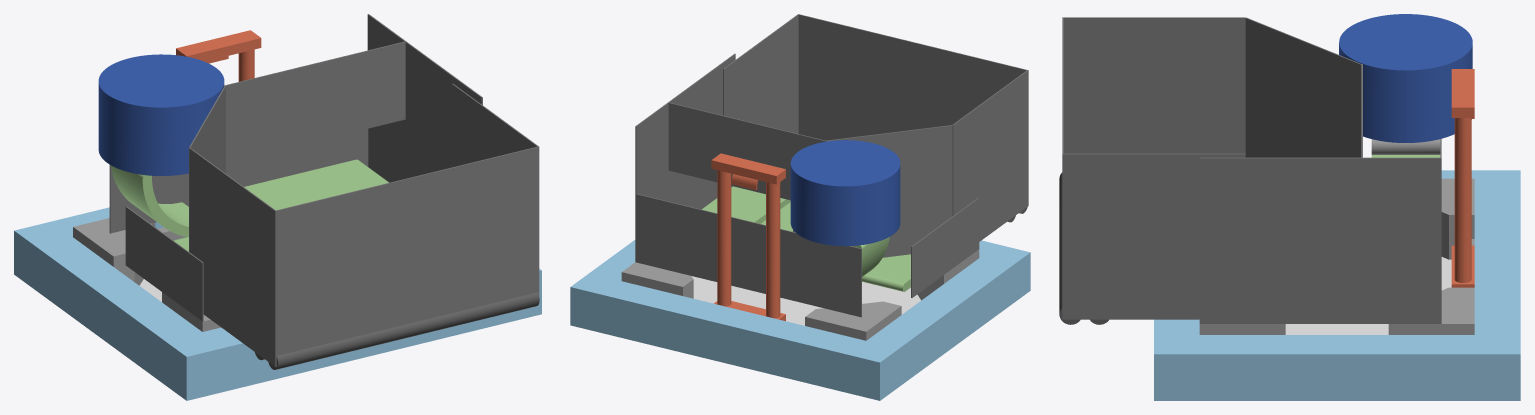
3 views of the same model, side by side, from view 1: azimuth 30°, elevation 25°; view 2: azimuth 150°, elevation 25°; view 3: azimuth 270°, elevation 25° (orthographic). The views are drawn at different scales.
Visible parts, largest first — view 1: empty_19, empty_16, empty_5, empty_12, empty_4, empty_13, empty_6, empty_3, empty_8, empty_2; view 2: empty_19, empty_16, empty_5, empty_12, empty_2, empty_3, empty_4, empty_17, empty_15, empty_9, empty_8; view 3: empty_16, empty_19, empty_5, empty_12, empty_3, empty_2, empty_17, empty_10, empty_13.
Part boxes in pixels (x1=…): empty_19: x1=189, y1=83, x2=539, y2=366; empty_16: x1=109, y1=14, x2=482, y2=251; empty_5: x1=14, y1=207, x2=541, y2=400; empty_12: x1=98, y1=54, x2=224, y2=175; empty_4: x1=125, y1=206, x2=203, y2=321; empty_13: x1=268, y1=292, x2=539, y2=369; empty_6: x1=244, y1=159, x2=388, y2=210; empty_3: x1=73, y1=218, x2=220, y2=331; empty_8: x1=111, y1=165, x2=188, y2=236; empty_2: x1=176, y1=30, x2=261, y2=81; empty_19: x1=723, y1=14, x2=1028, y2=241; empty_16: x1=635, y1=53, x2=952, y2=317; empty_5: x1=570, y1=240, x2=1030, y2=400; empty_12: x1=790, y1=140, x2=900, y2=246; empty_2: x1=711, y1=153, x2=785, y2=321; empty_3: x1=621, y1=249, x2=979, y2=340; empty_4: x1=911, y1=197, x2=979, y2=297; empty_17: x1=691, y1=276, x2=920, y2=325; empty_15: x1=702, y1=186, x2=790, y2=223; empty_9: x1=862, y1=254, x2=910, y2=291; empty_8: x1=854, y1=237, x2=889, y2=276; empty_16: x1=1199, y1=17, x2=1441, y2=323; empty_19: x1=1062, y1=17, x2=1245, y2=319; empty_5: x1=1154, y1=170, x2=1520, y2=400; empty_12: x1=1339, y1=14, x2=1472, y2=142; empty_3: x1=1199, y1=178, x2=1474, y2=334; empty_2: x1=1451, y1=69, x2=1474, y2=287; empty_17: x1=1285, y1=257, x2=1451, y2=334; empty_10: x1=1371, y1=139, x2=1440, y2=154; empty_13: x1=1059, y1=172, x2=1080, y2=324.
Size of the model in its own units: 965 by 559 by 1022.
